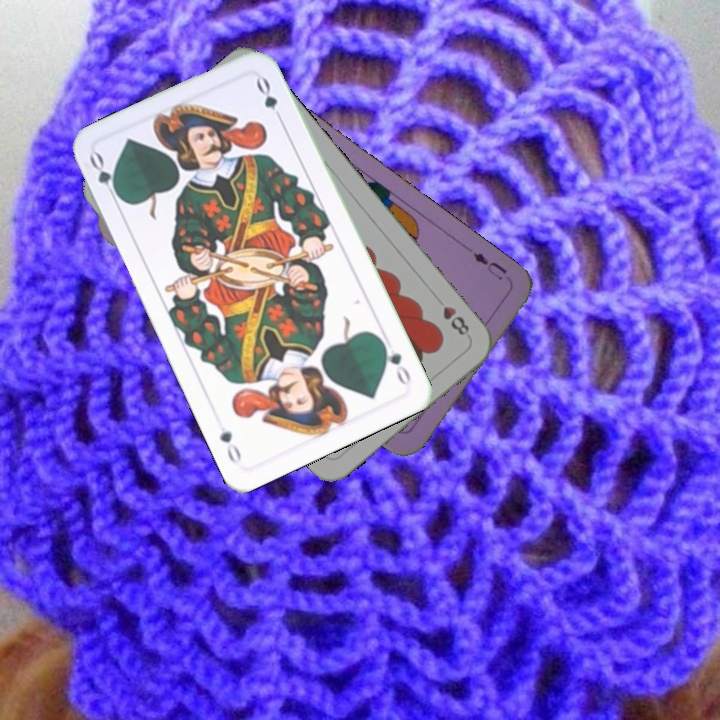EU: (468, 248, 510, 283)
GO: (85, 148, 125, 205), (376, 335, 414, 388)
H8: (438, 302, 472, 338)
